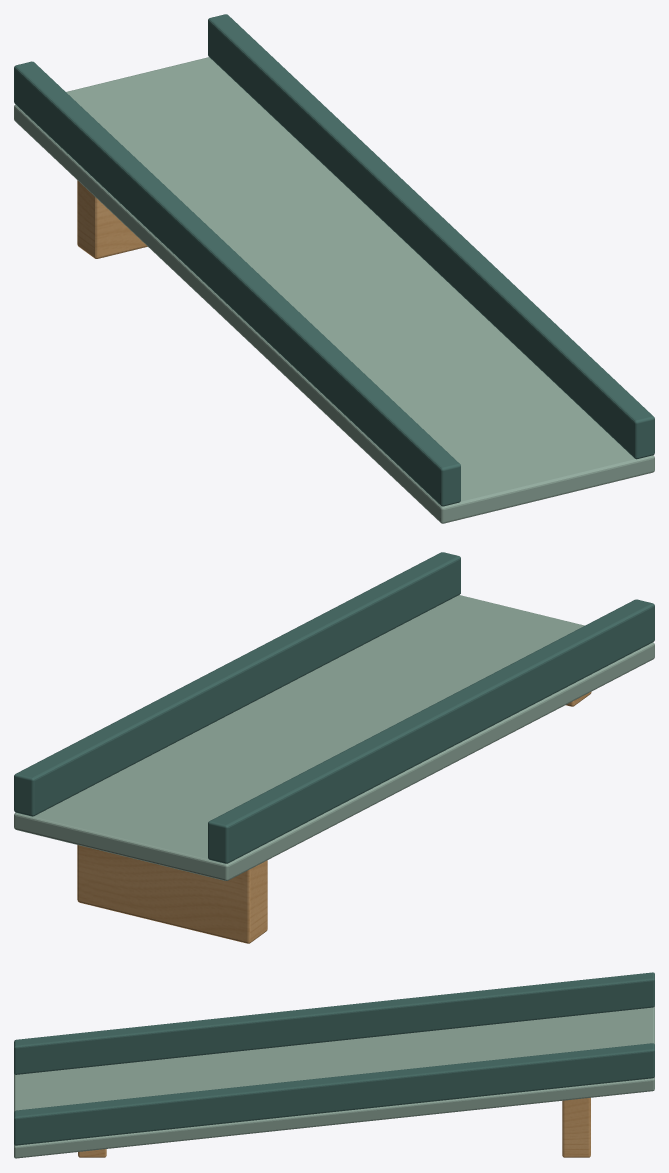
The model's file is channel.glb.
3 renders of one model, top to bottom at view 1: azimuth 30°, elevation 25°; view 2: azimuth 150°, elevation 25°; view 3: azimuth 270°, elevation 25°, orthographic. The views are drawn at different scales.
Parts seen in each view (by area): view 1: channel; view 2: channel; view 3: channel.
Boxes of the visible parts, bbox=[...] form: channel: bbox=[14, 14, 654, 523]; channel: bbox=[14, 552, 654, 943]; channel: bbox=[14, 972, 654, 1158].
Bounding box in the file's own units: 0.026 × 0.018 × 0.09.
Materials: 3 (1 with a texture image).
